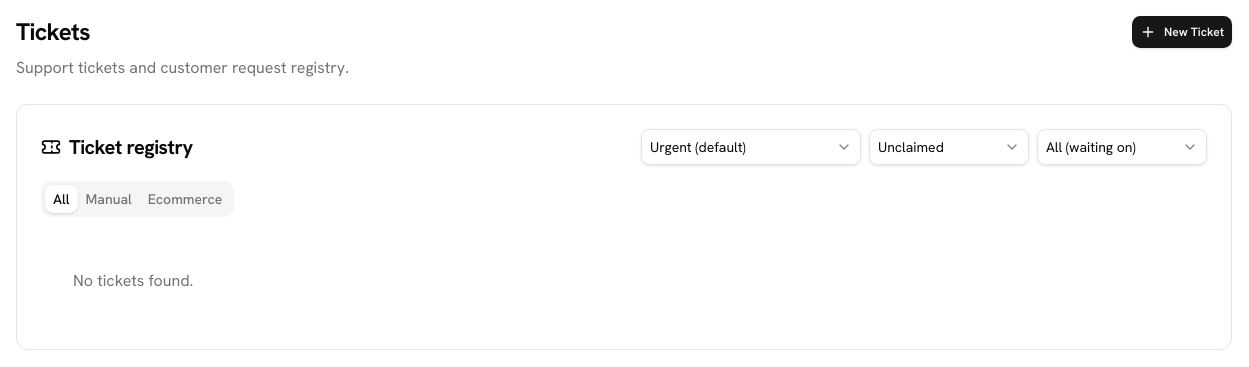
Scenario: TicketListPage › shows the filtered empty state when a filter is active and nothing matches
Expected: the text "No tickets found." is shown, [73,270,193,291]
// Open the Status filter and pick a value.
Click the dropdown named "Filter by status".
click(949, 147)  # box [869,129,1029,165]
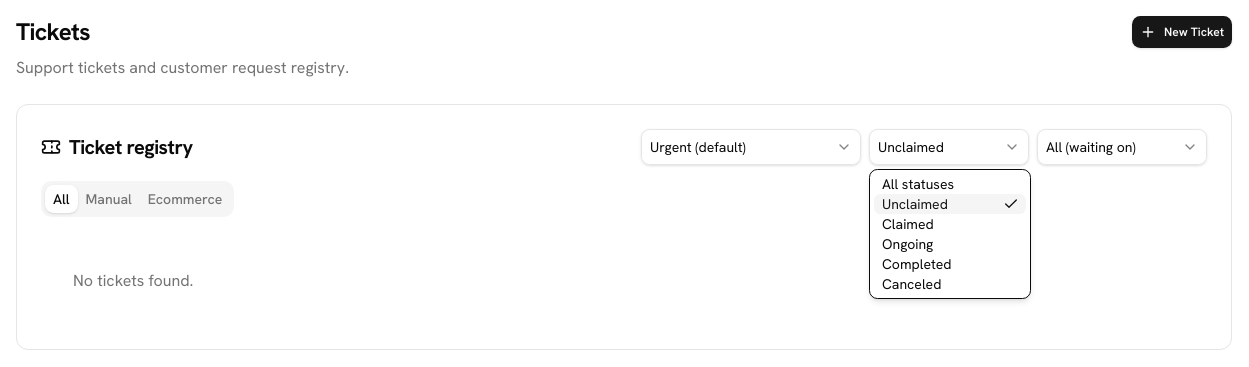
Click the option "Claimed".
click(908, 224)  # box [882,215,934,233]
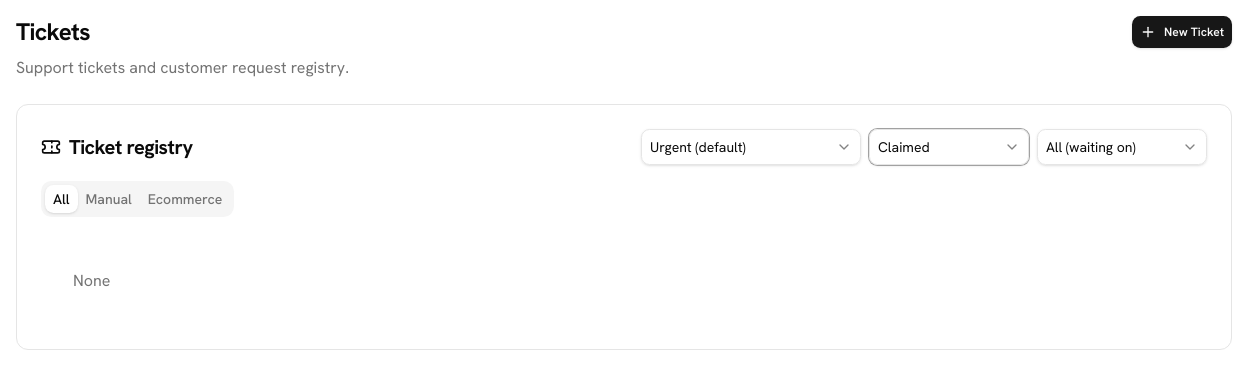
Expected: the text "None" is shown, [73,270,110,291]
